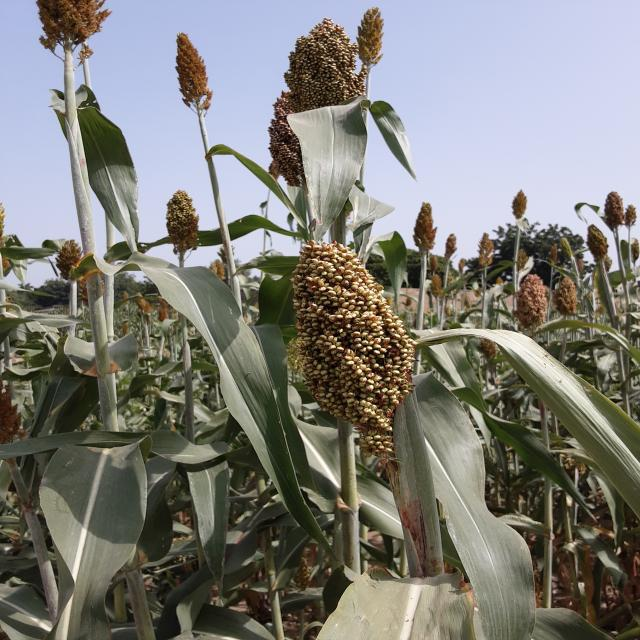UnripeSorghum: (256, 231, 439, 455), (259, 18, 390, 204)
